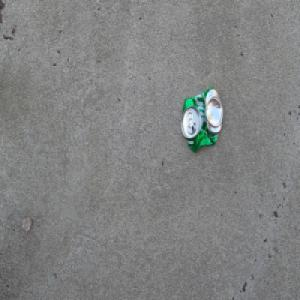SodaCan: (180, 86, 223, 154)
